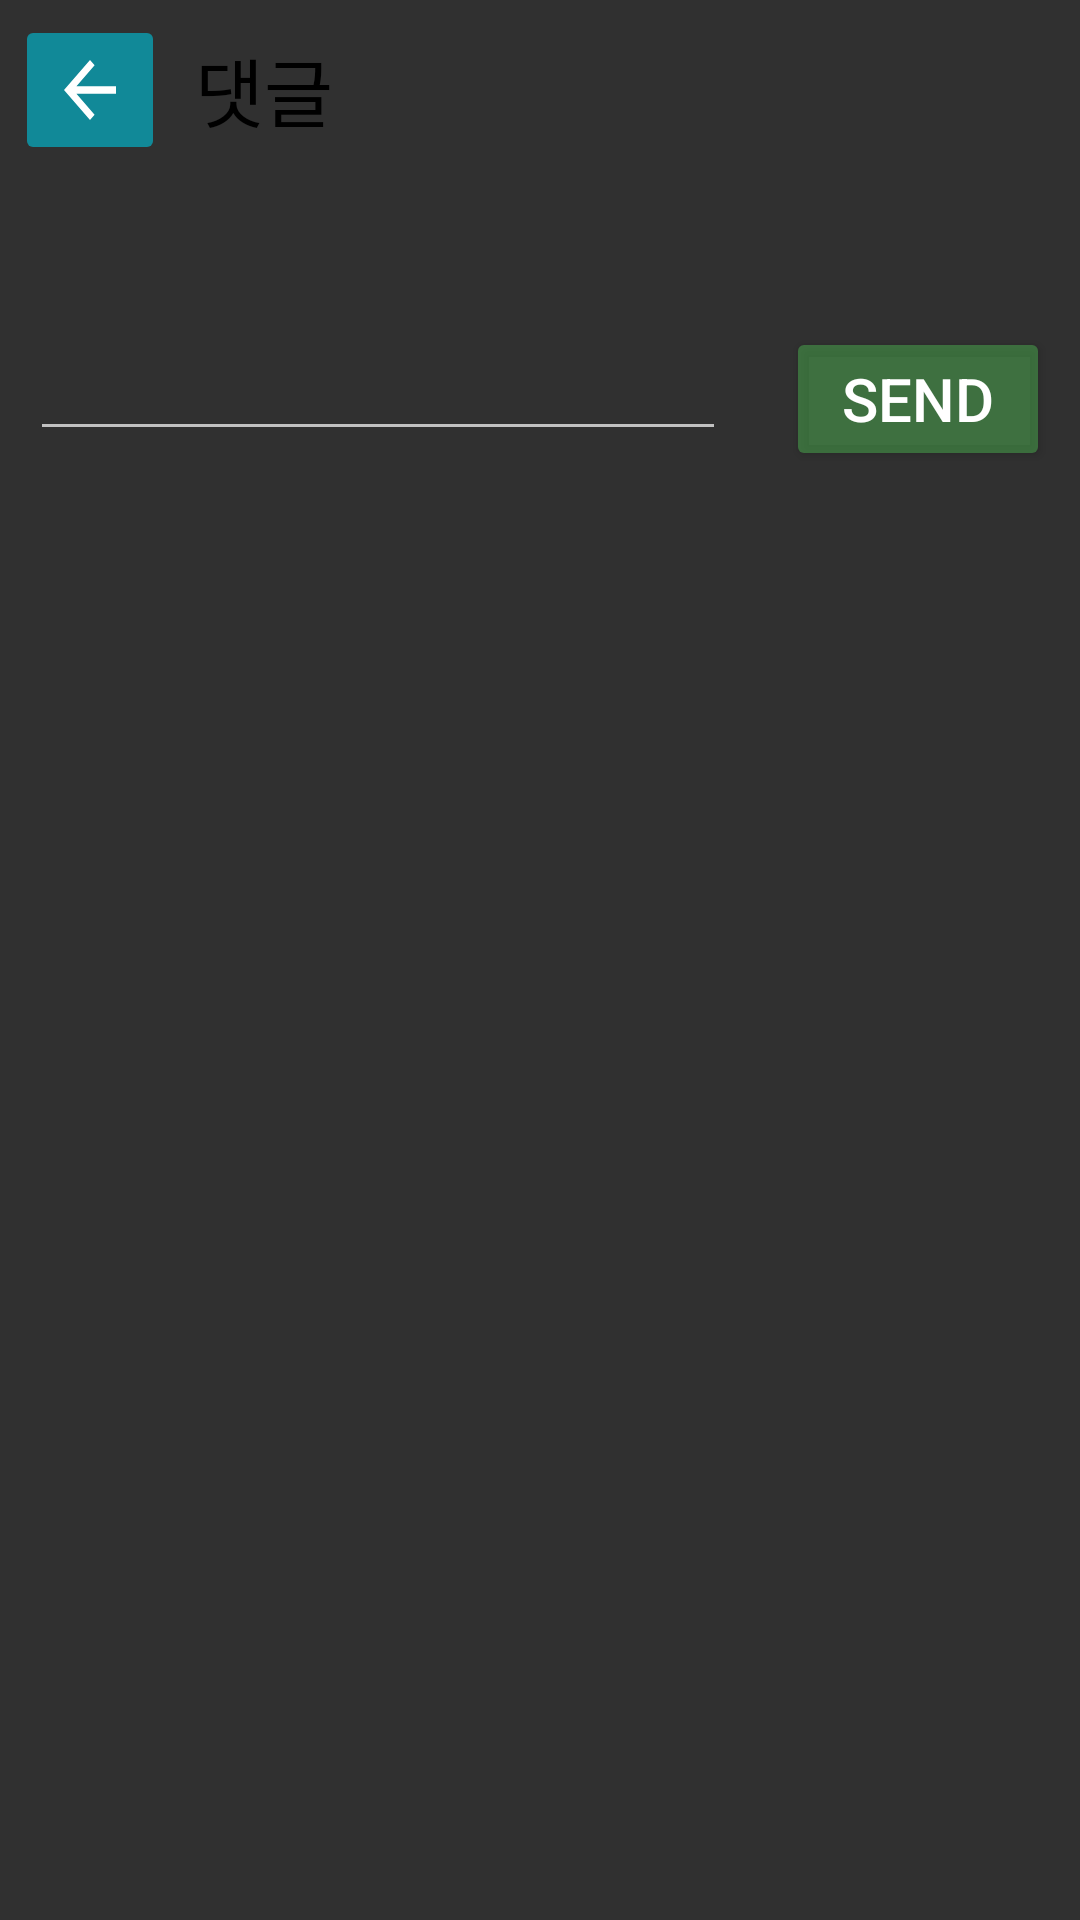

Point at icon controls on the screen. Image size 1080px x 1920px, points as point (x, y).
arrow back: point (90, 90)
